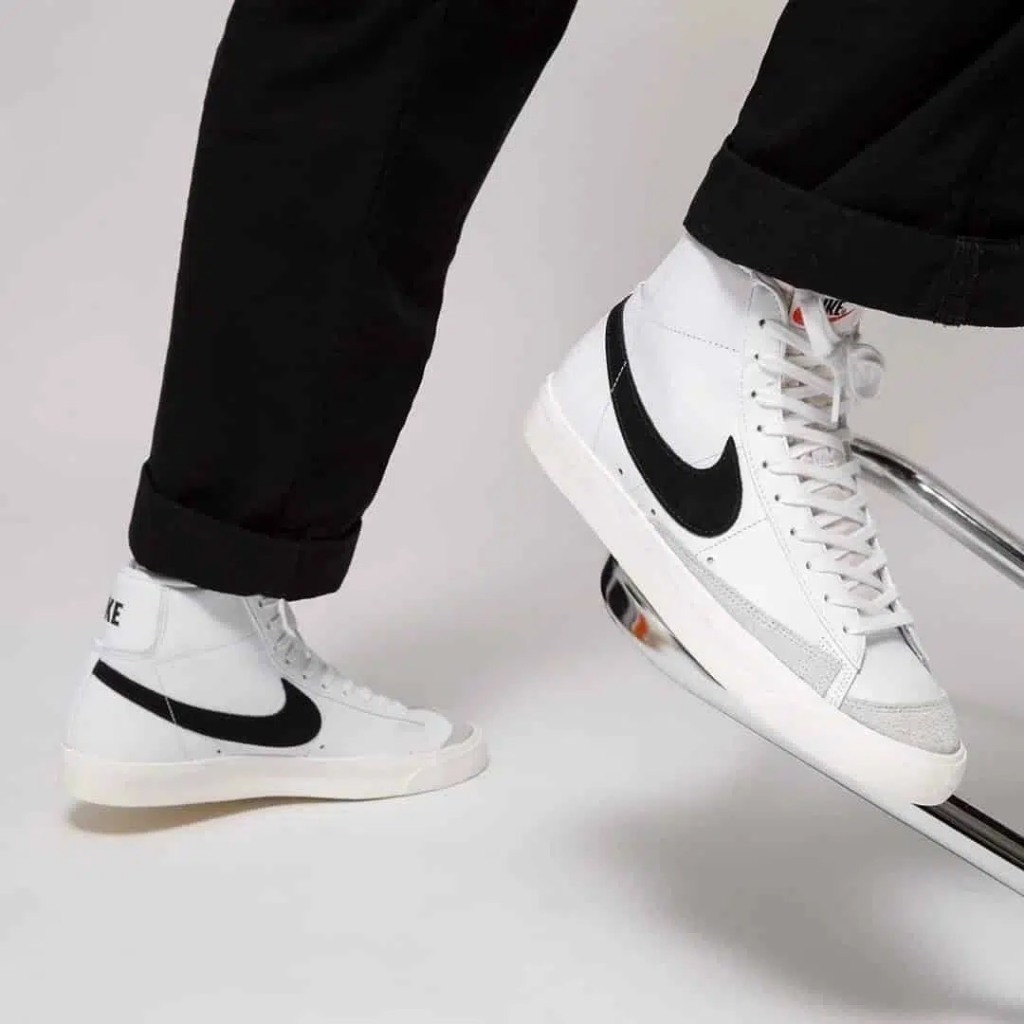sneakers: (517, 227, 969, 809), (58, 557, 489, 811)
